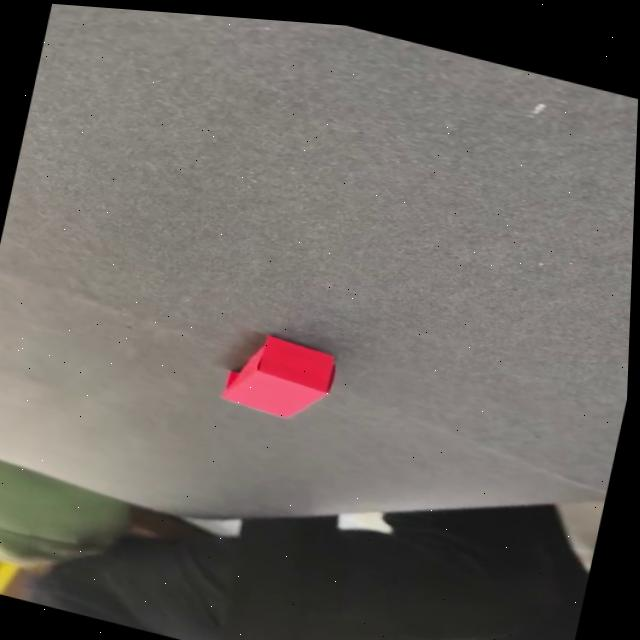red block: (218, 325, 342, 431)
